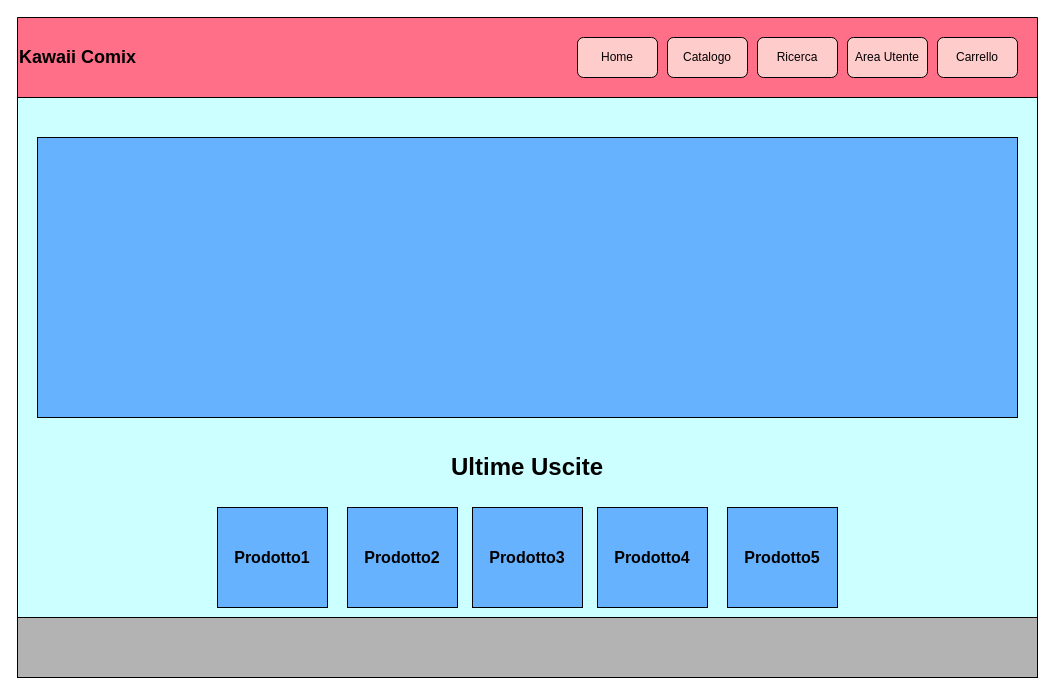
The diagram is 1055 pixels wide and 695 high, and some of its shapes have lost their labels. The centre of each missing label's shape, as x and y in pixels:
CAROUSEL: pixel 527 277
Footer: pixel 527 647
